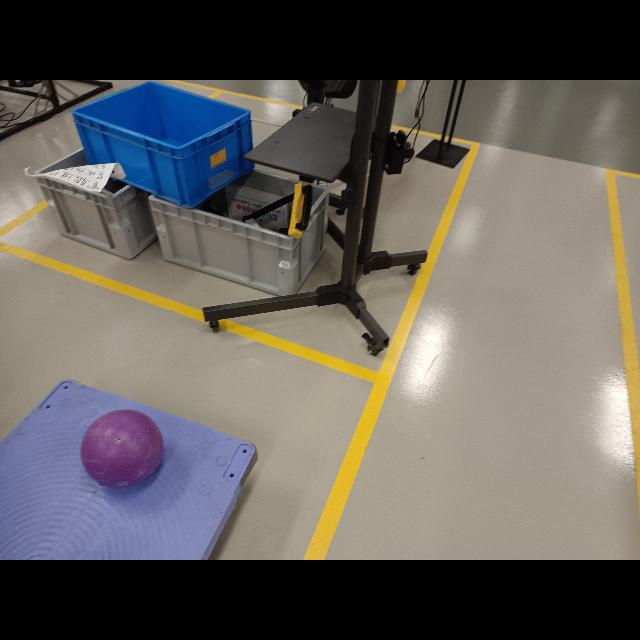P: (80, 410, 166, 488)
